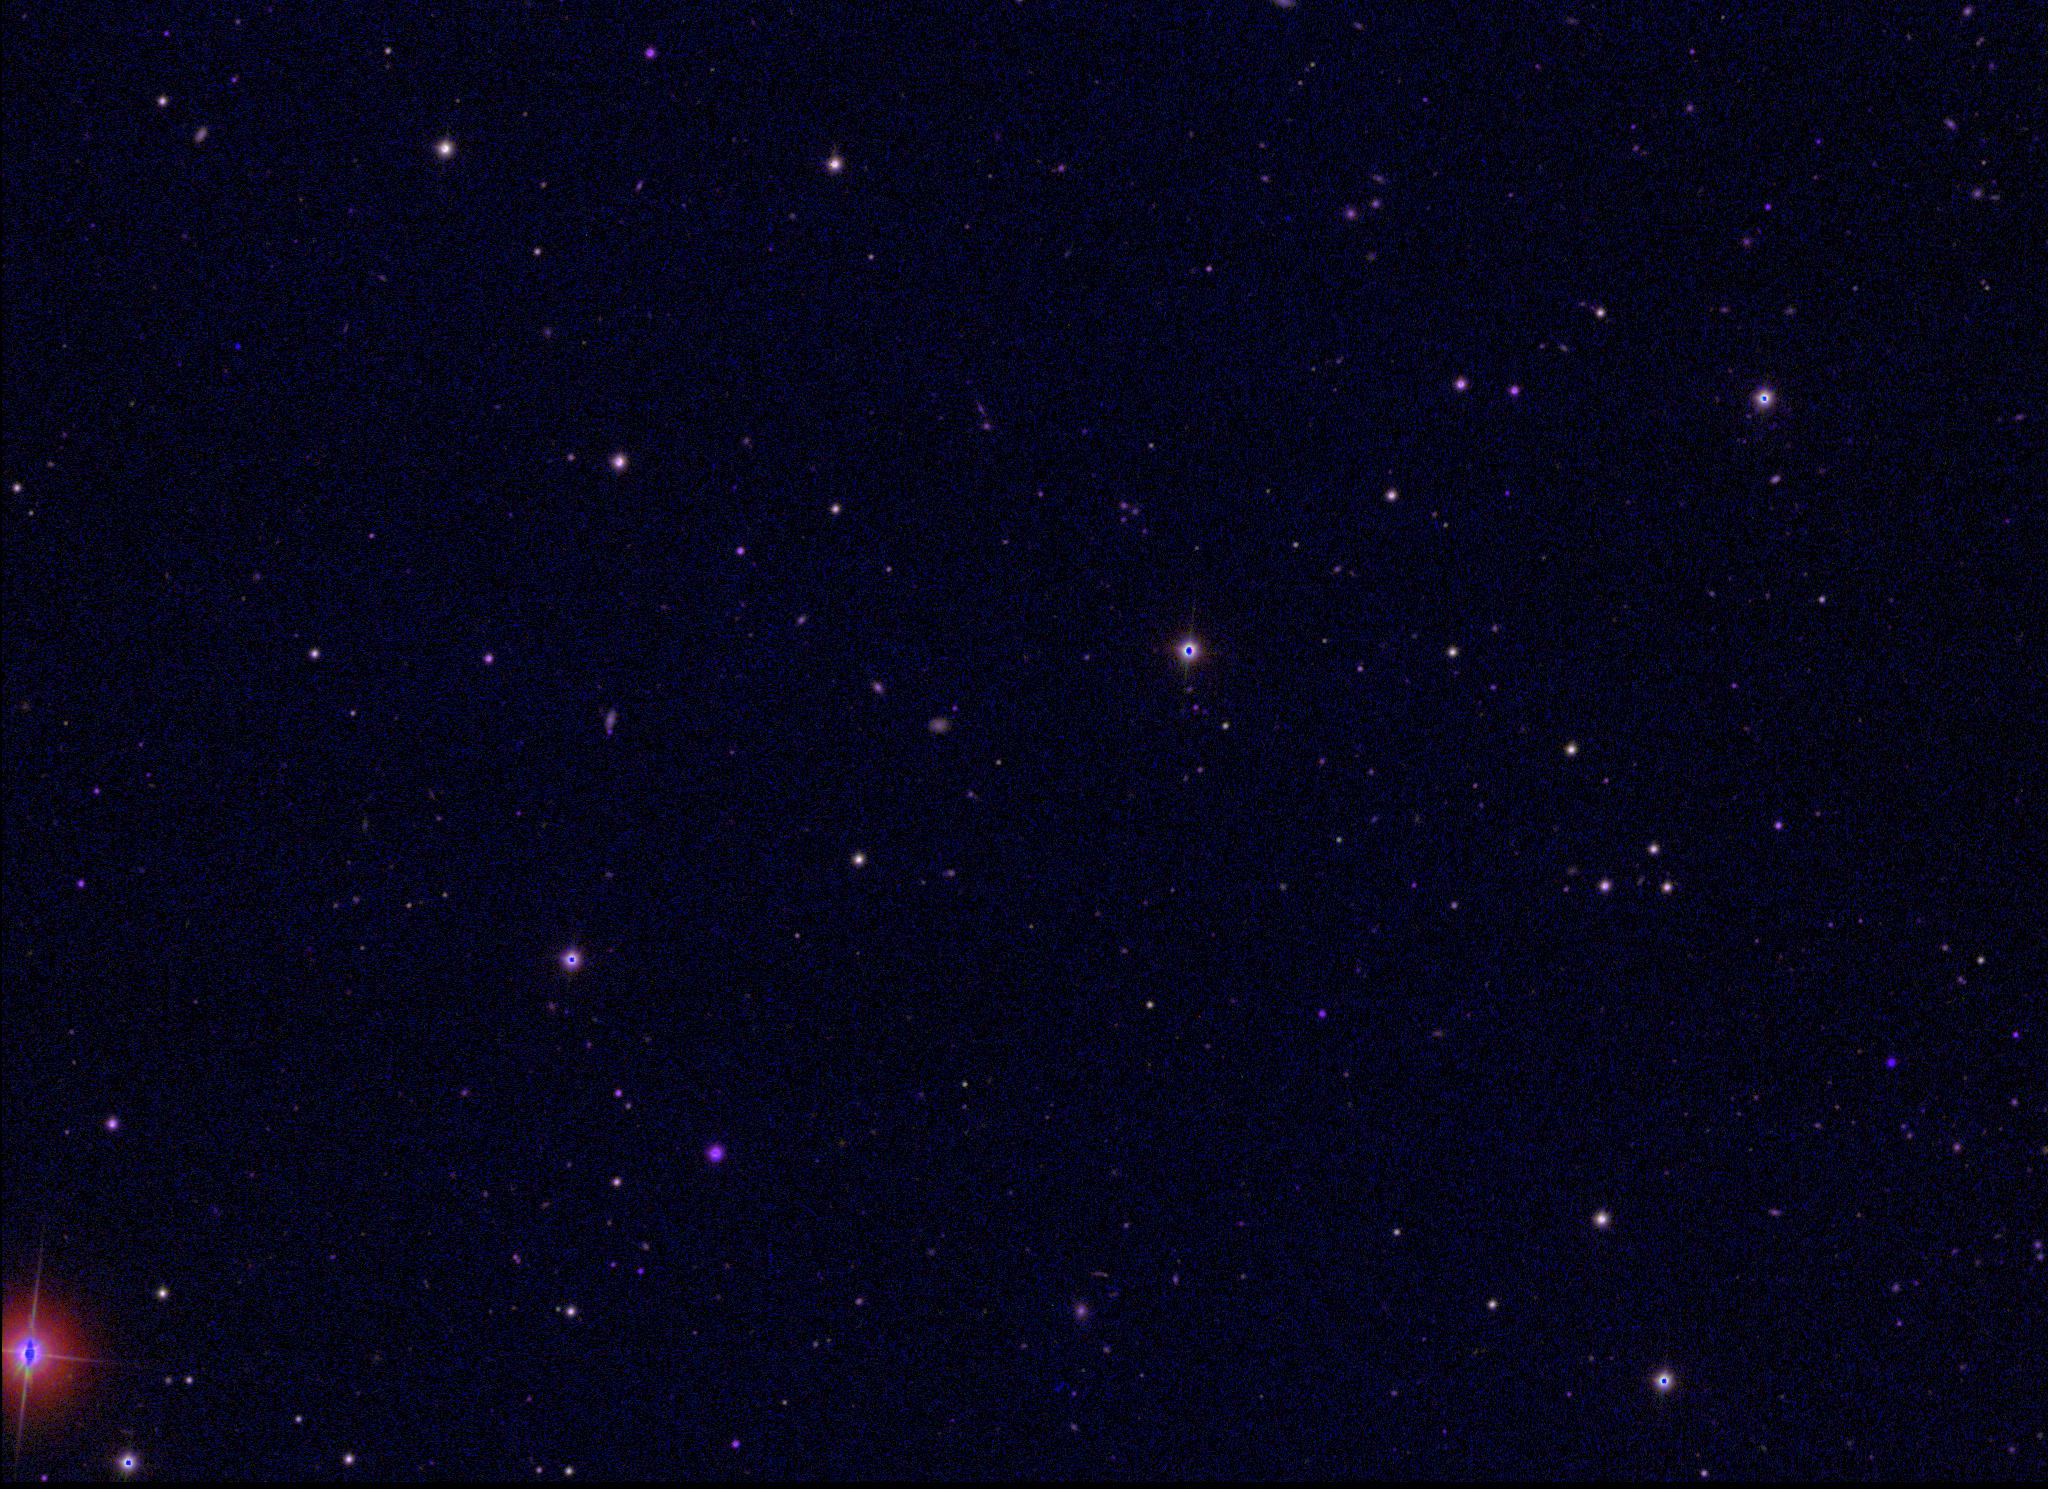L: (232, 339, 246, 353)
